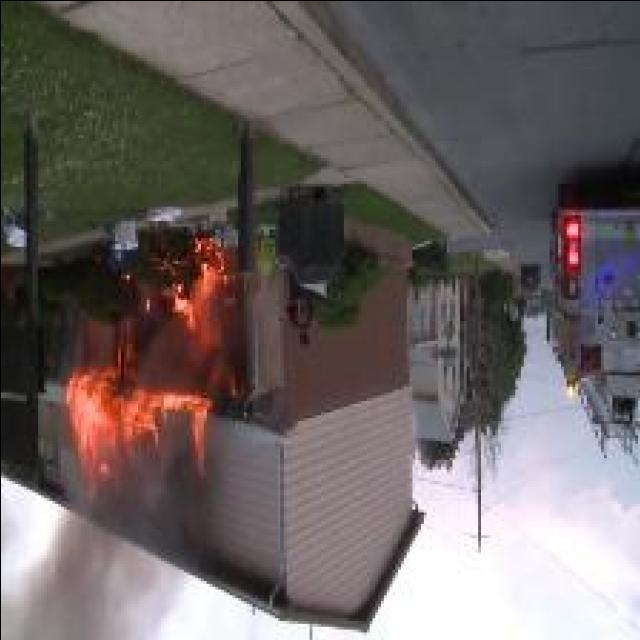Fire: (66, 363, 212, 503), (166, 232, 240, 394)
